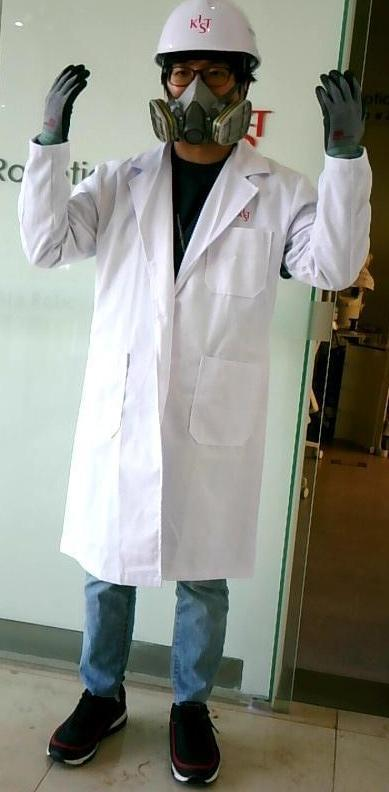lab_coat: (65, 170, 304, 569)
